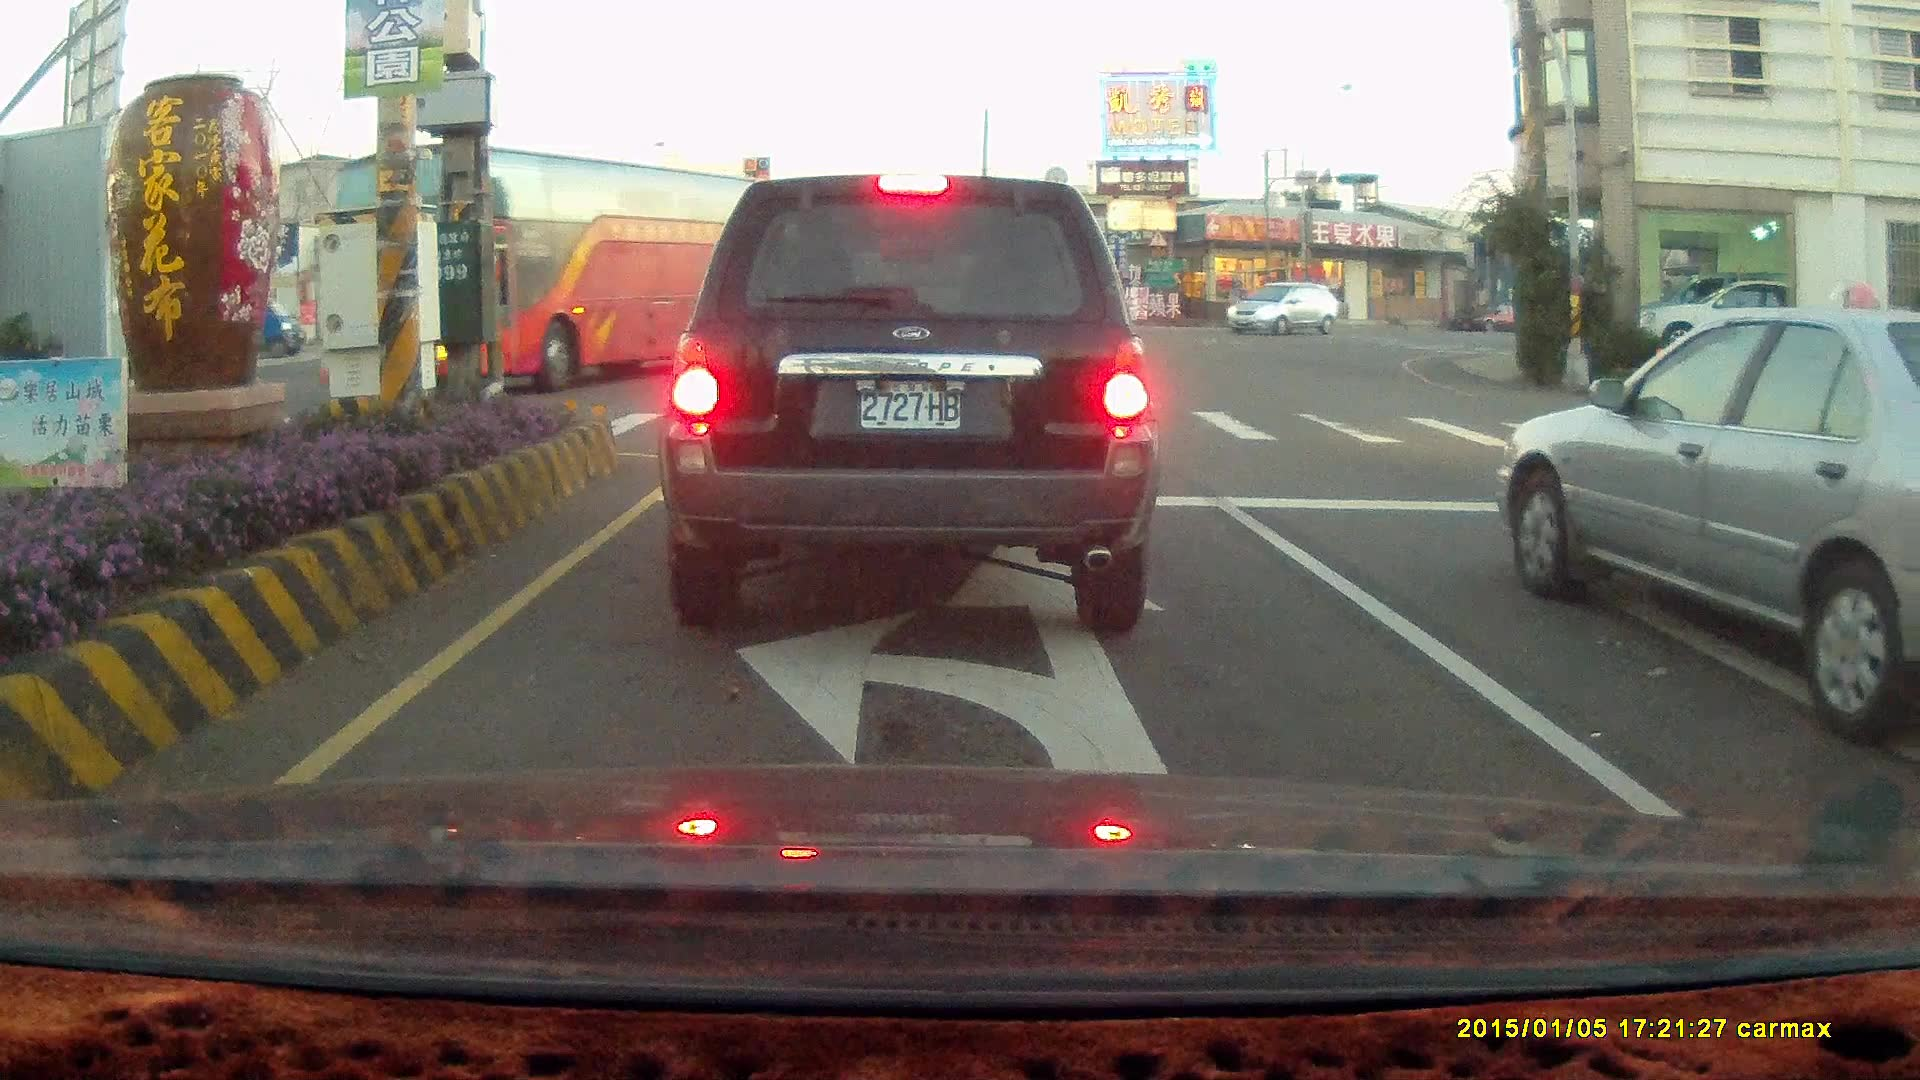vehicle: (653, 171, 1158, 636), (1490, 303, 1920, 748), (1495, 306, 1920, 702), (318, 138, 800, 411), (535, 255, 750, 345), (1631, 276, 1836, 363), (1642, 276, 1784, 356), (1896, 493, 1920, 836), (1226, 282, 1341, 340)
